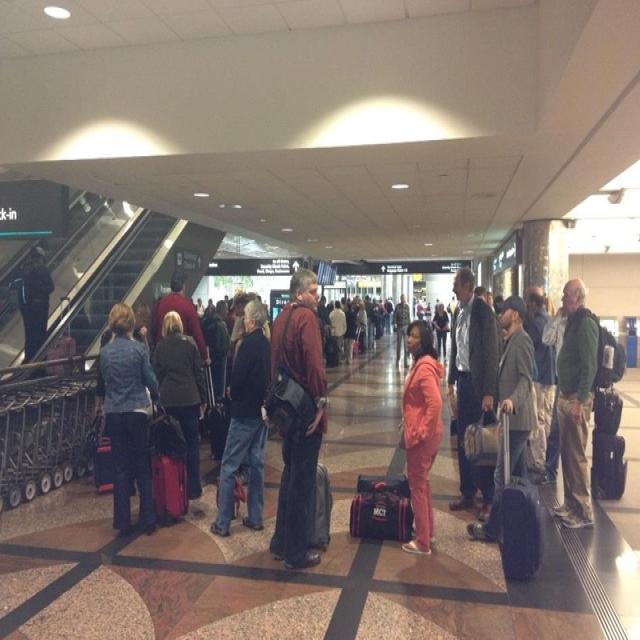body: (259, 267, 330, 572), (546, 274, 627, 530), (465, 292, 543, 555), (207, 297, 274, 539), (97, 300, 165, 535), (446, 265, 504, 524), (394, 316, 447, 557), (148, 309, 211, 500), (533, 305, 573, 491), (524, 284, 559, 475), (151, 269, 213, 367), (18, 244, 56, 383), (208, 299, 233, 409), (392, 292, 412, 372), (328, 299, 349, 361), (431, 300, 449, 359), (473, 283, 504, 316), (364, 292, 384, 340), (344, 298, 358, 366), (355, 297, 369, 356), (338, 295, 350, 356), (129, 324, 151, 353), (222, 291, 249, 313), (193, 296, 216, 320), (416, 300, 433, 331), (382, 295, 394, 336), (98, 328, 116, 348), (316, 295, 328, 321), (446, 294, 457, 314), (352, 294, 365, 306), (434, 298, 441, 318)
